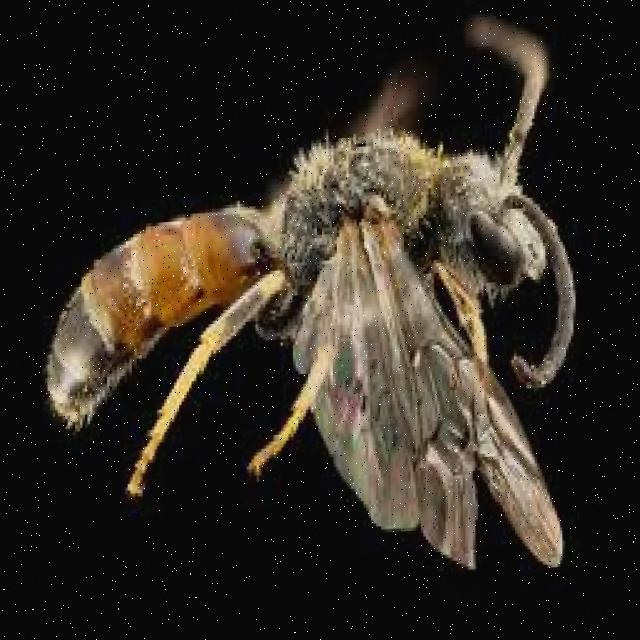Lasioglossum: (36, 0, 601, 595)
